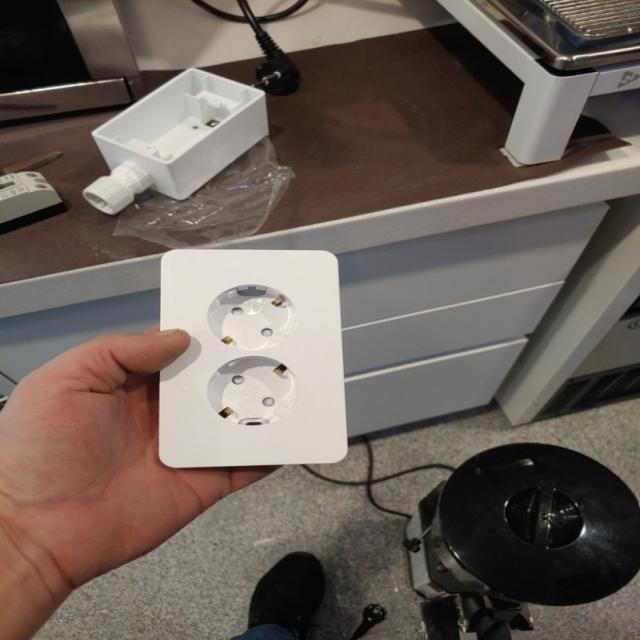typeb: (159, 241, 343, 466)
